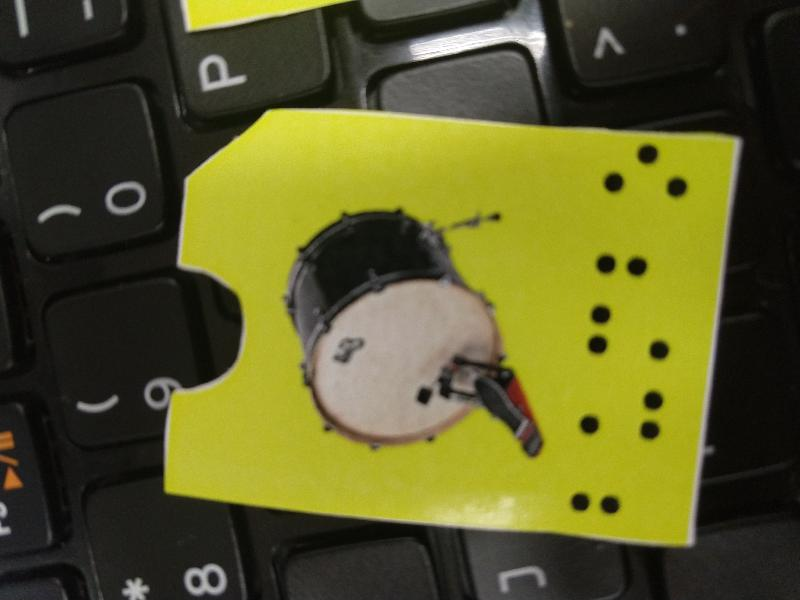bumbo: (160, 99, 746, 550)
